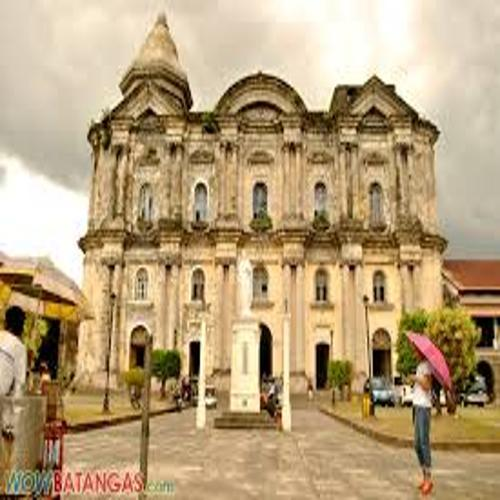Taal Basilica Church: (70, 2, 452, 418)
